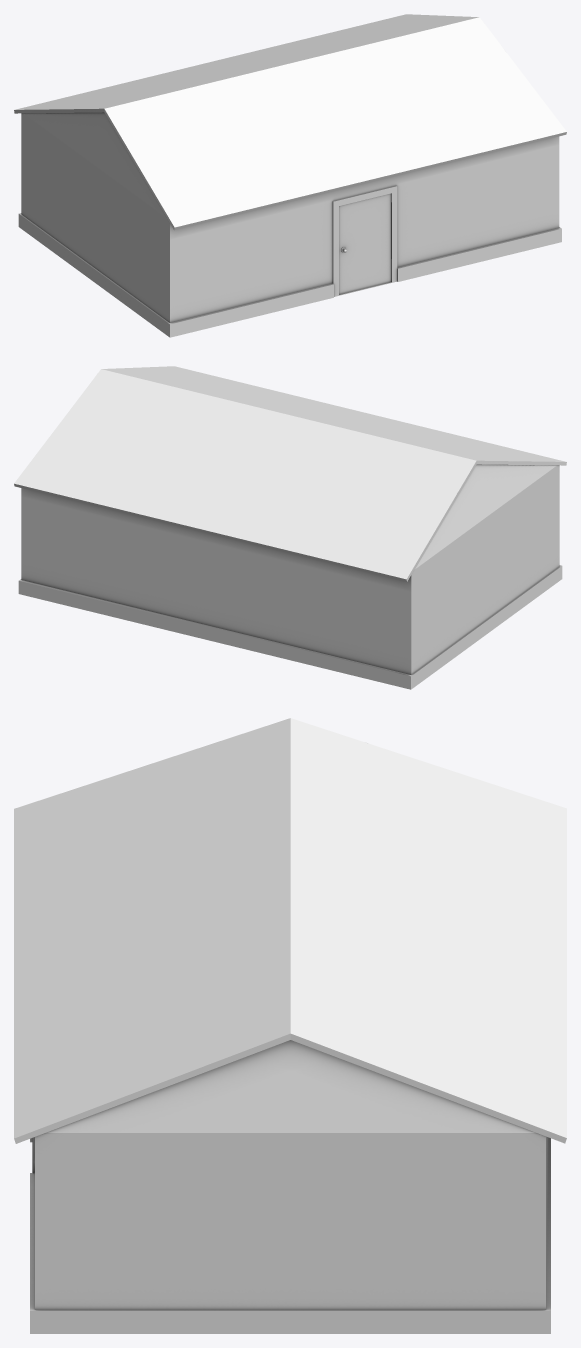
File: EggStorage.fbx
3 renders of one model, top to bottom at view 1: azimuth 30°, elevation 25°; view 2: azimuth 150°, elevation 25°; view 3: azimuth 270°, elevation 25°, orthographic. The views are drawn at different scales.
Visible parts, largest first — view 1: Яйцесклад; view 2: Яйцесклад; view 3: Яйцесклад.
Part boxes in pixels (bbox=[...]): Яйцесклад: bbox=[14, 14, 566, 337]; Яйцесклад: bbox=[14, 366, 566, 689]; Яйцесклад: bbox=[14, 718, 566, 1333].
Bounding box in the file's own units: 1.2 × 0.5004 × 0.8507.
